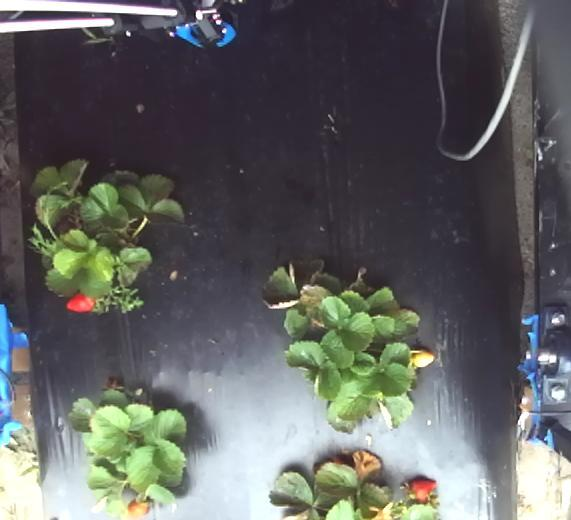mature: (407, 476, 436, 503), (65, 291, 95, 313), (125, 495, 151, 520)
